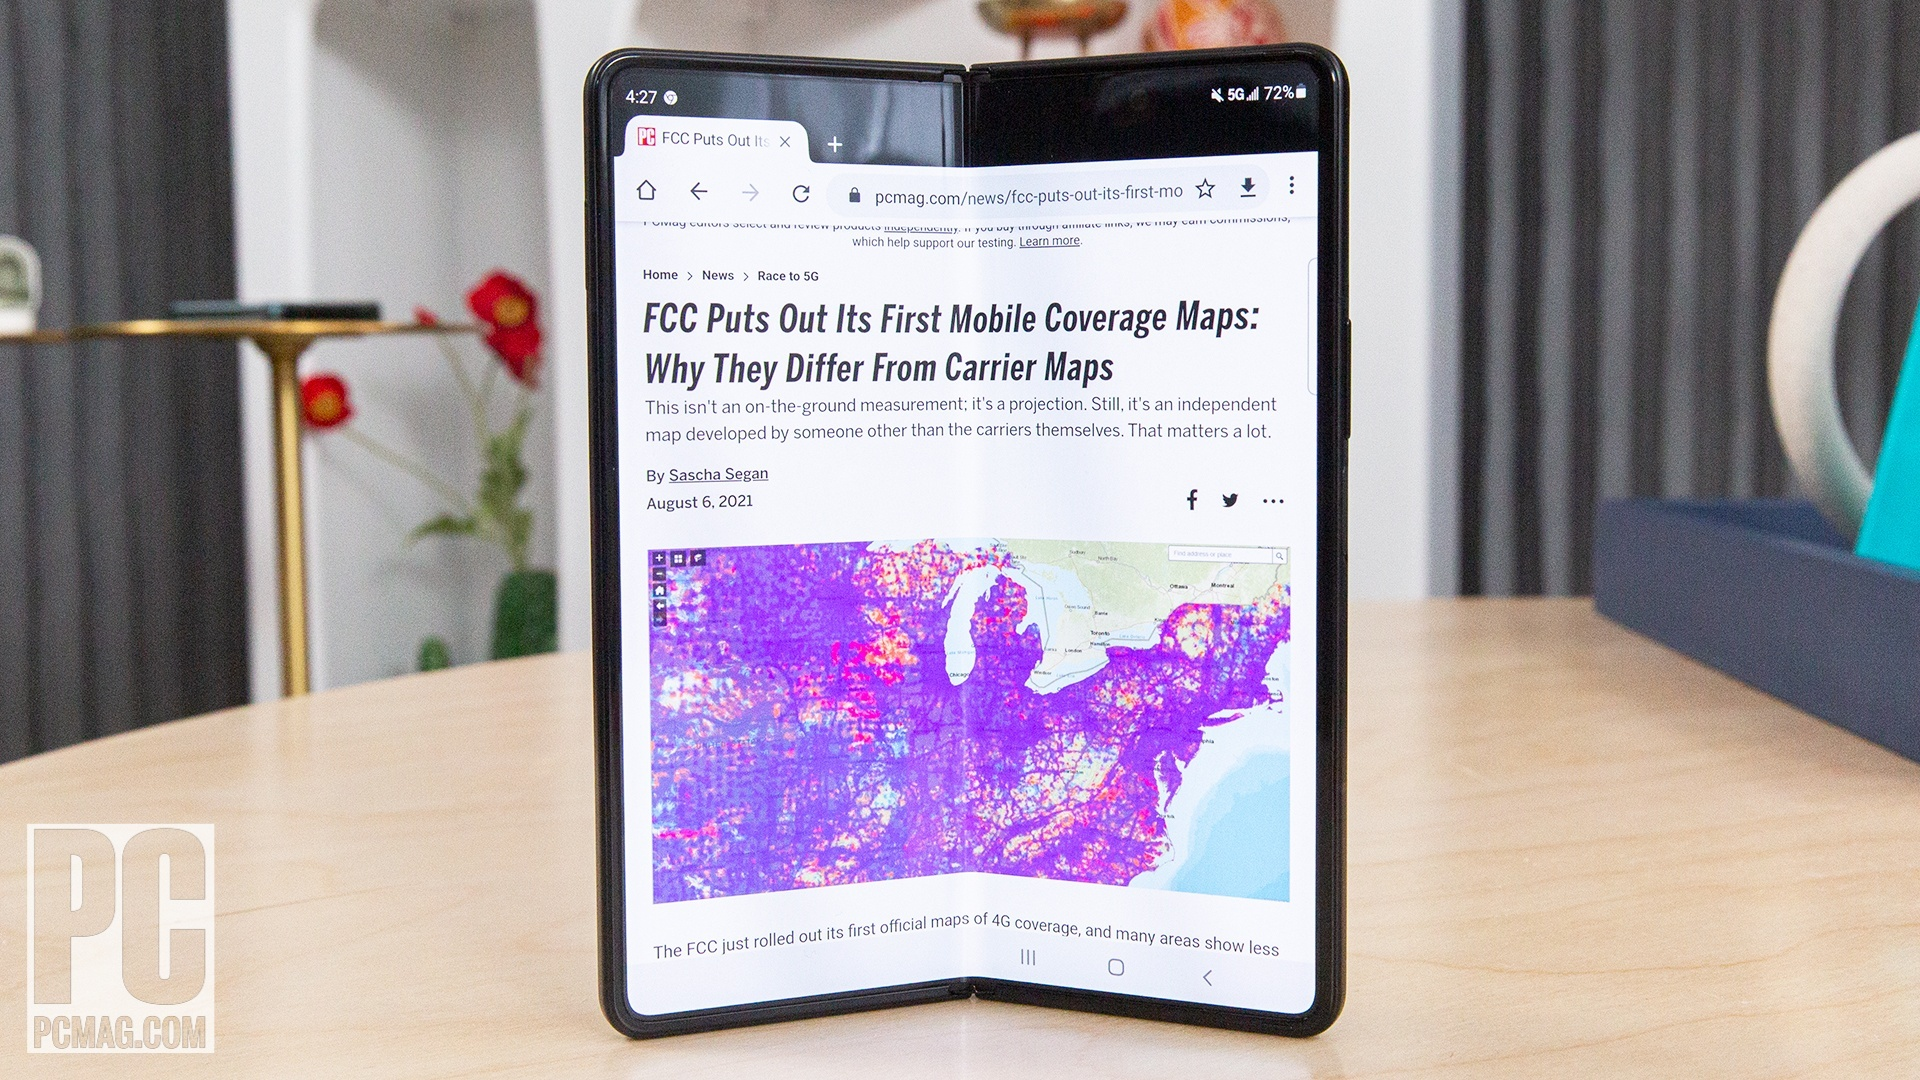phones: (553, 29, 1381, 1047)
